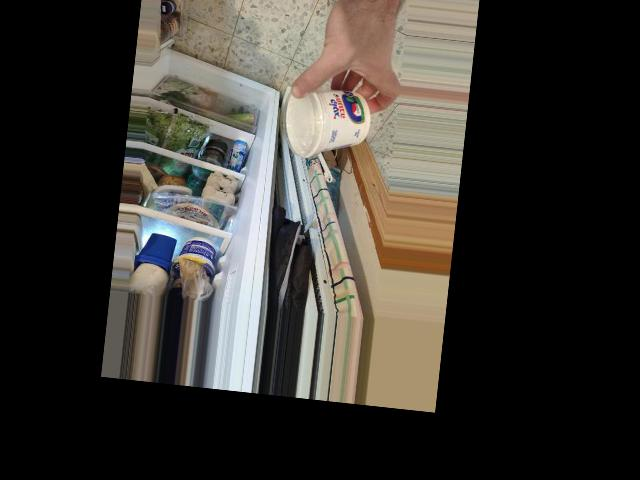cotage: (283, 77, 377, 162)
